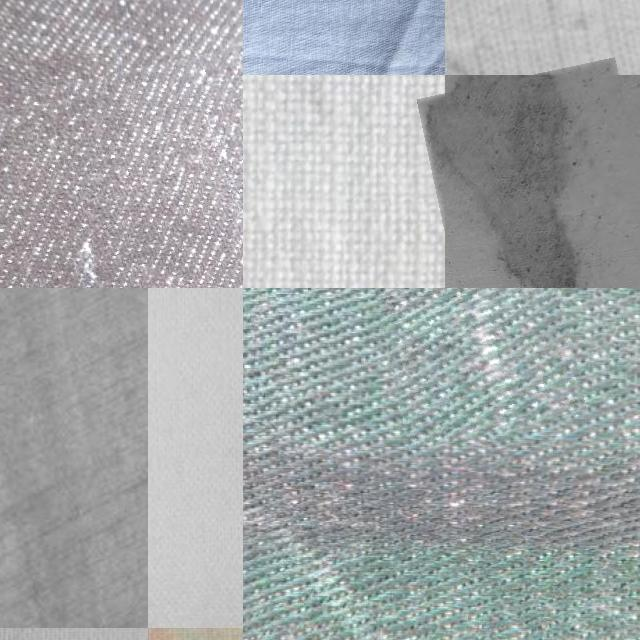Thread_other: (416, 59, 621, 288)
stains: (0, 49, 243, 288), (359, 288, 570, 443)
